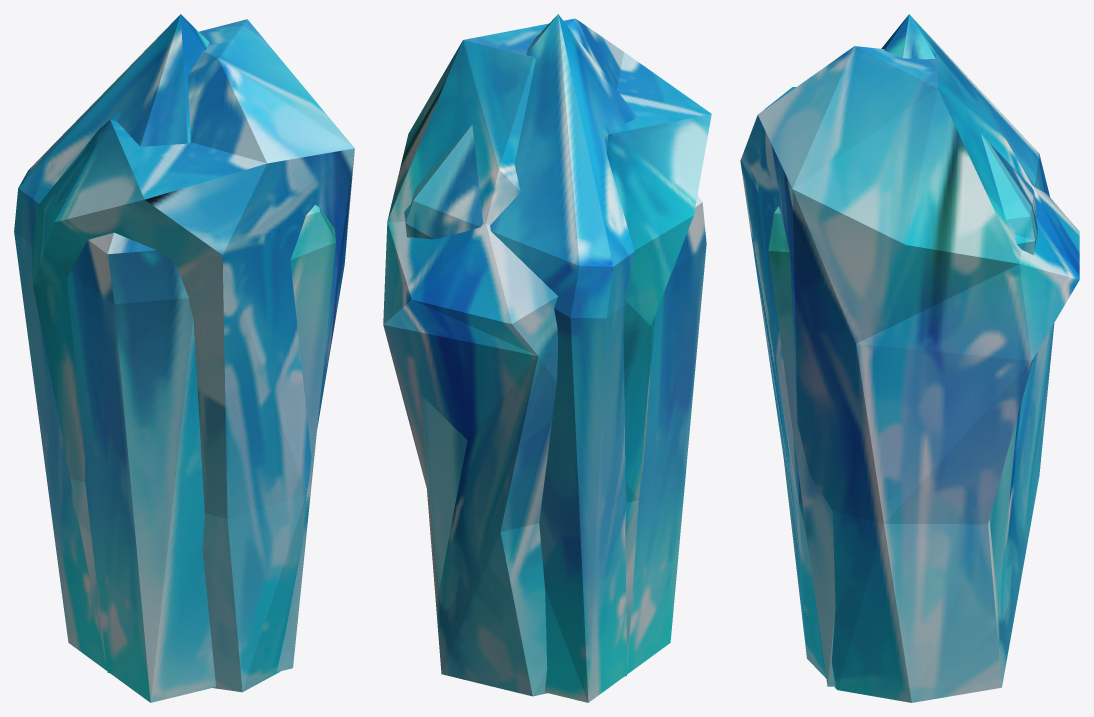
Rendered from Crystal_03_FBX.FBX.
The picture shows the model from 3 angles, left to right: view 1: azimuth 30°, elevation 25°; view 2: azimuth 150°, elevation 25°; view 3: azimuth 270°, elevation 25°; orthographic projection.
Parts seen in each view (by area): view 1: Crystal_001, Crystal_002; view 2: Crystal_001, Crystal_002; view 3: Crystal_001, Crystal_002.
Part boxes in pixels (x1=…): Crystal_001: x1=31, y1=19, x2=354, y2=692; Crystal_002: x1=14, y1=14, x2=335, y2=702; Crystal_001: x1=383, y1=18, x2=711, y2=696; Crystal_002: x1=404, y1=14, x2=706, y2=702; Crystal_001: x1=740, y1=46, x2=1079, y2=702; Crystal_002: x1=768, y1=14, x2=1049, y2=686.
Size of the model in its own units: 58.69 by 128 by 61.37.
